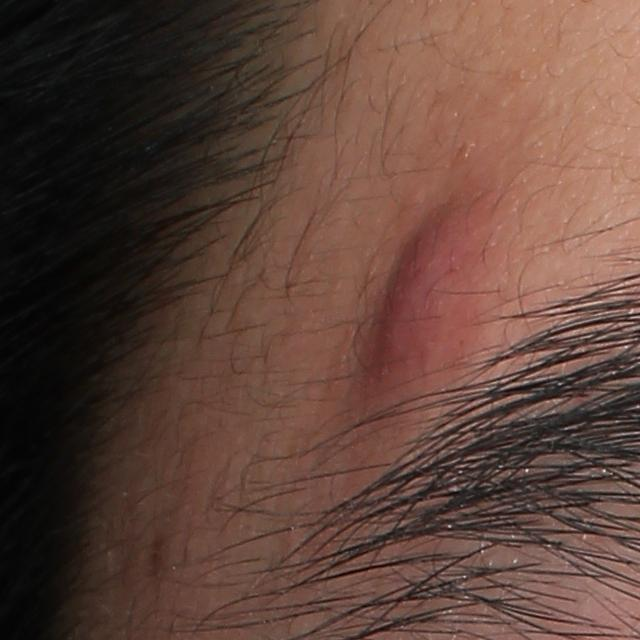nodule: (344, 185, 498, 409)
